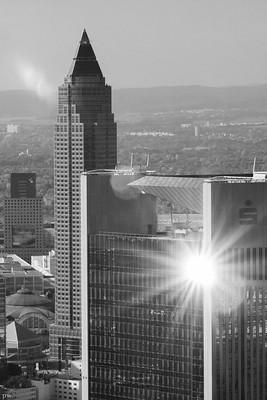building: (50, 23, 120, 400)
